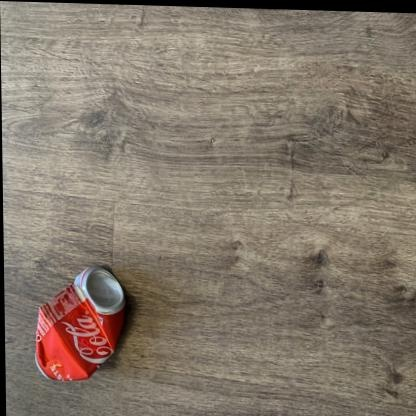trash: (36, 266, 125, 380)
